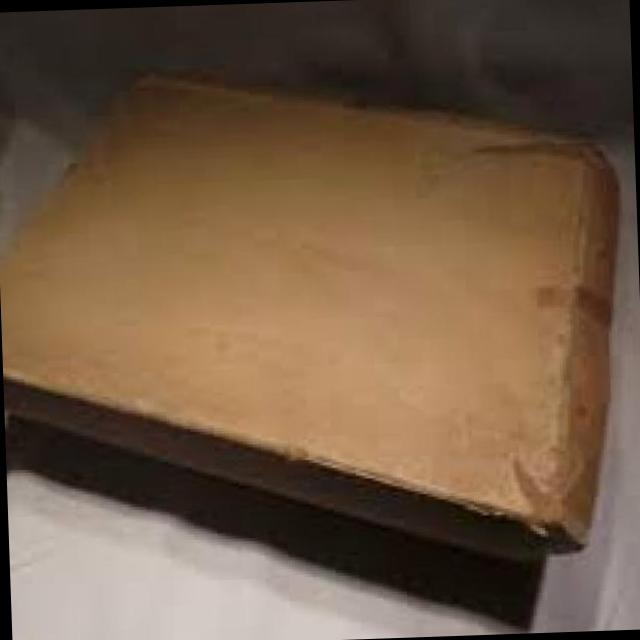cardboard paper: (0, 78, 615, 535)
